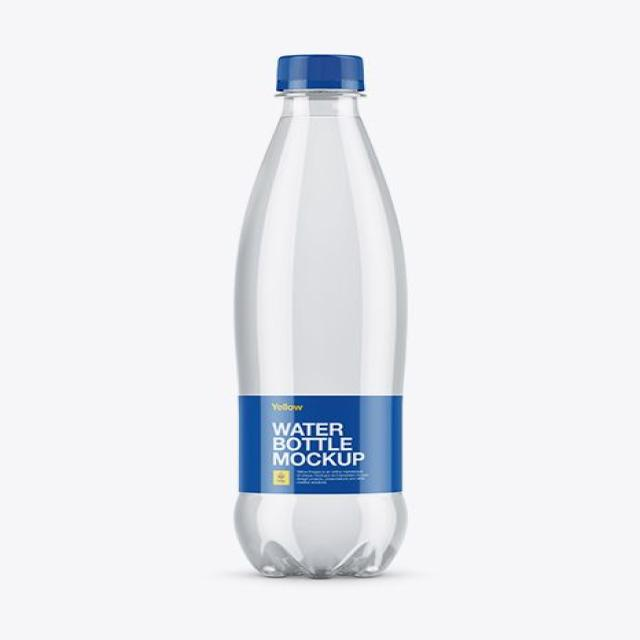bottle: (222, 49, 413, 591)
